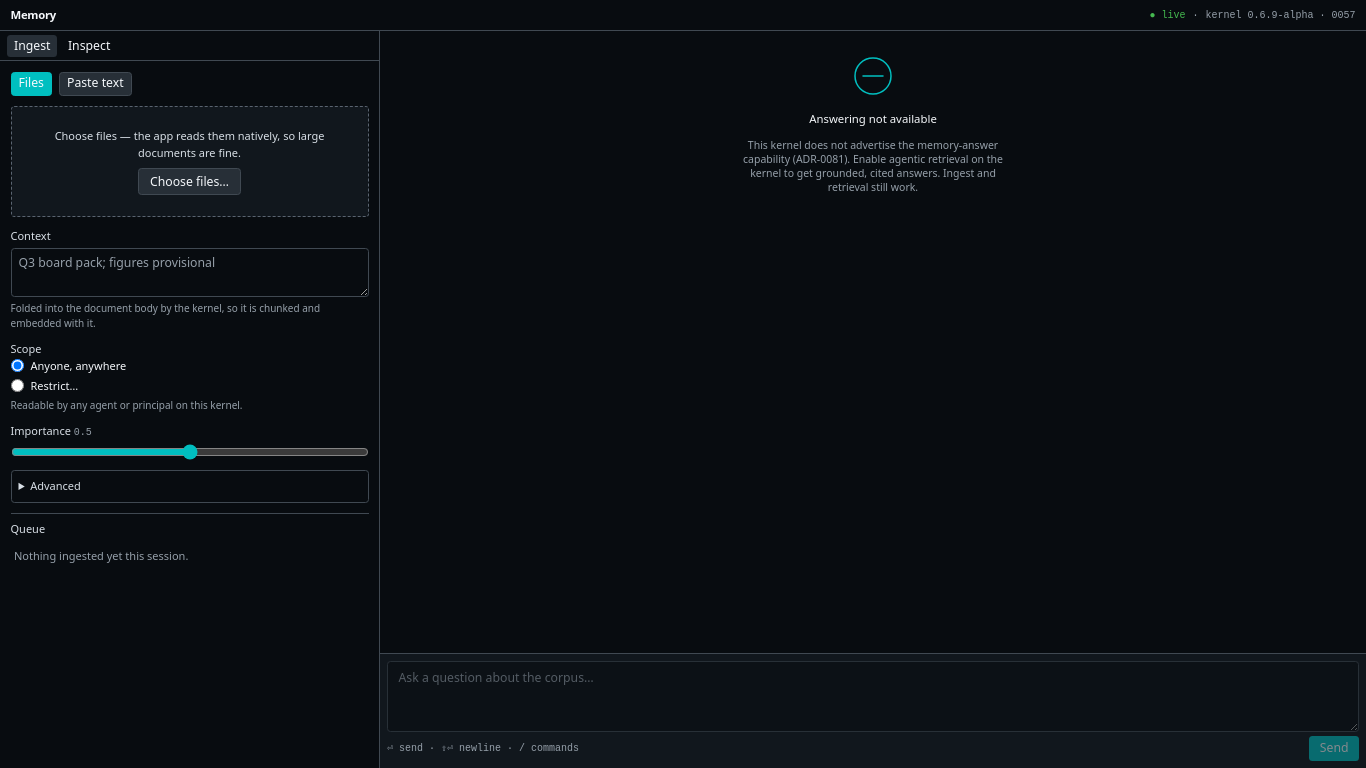
Scenario: MemoryPage — ingest › warns that a closed label makes the document unreachable until granted
What coordinates should you click on to do the following:
click the radio button labelled "Restrict…"
I would click on:
 (17, 386)
Its box is [10,379,24,392].
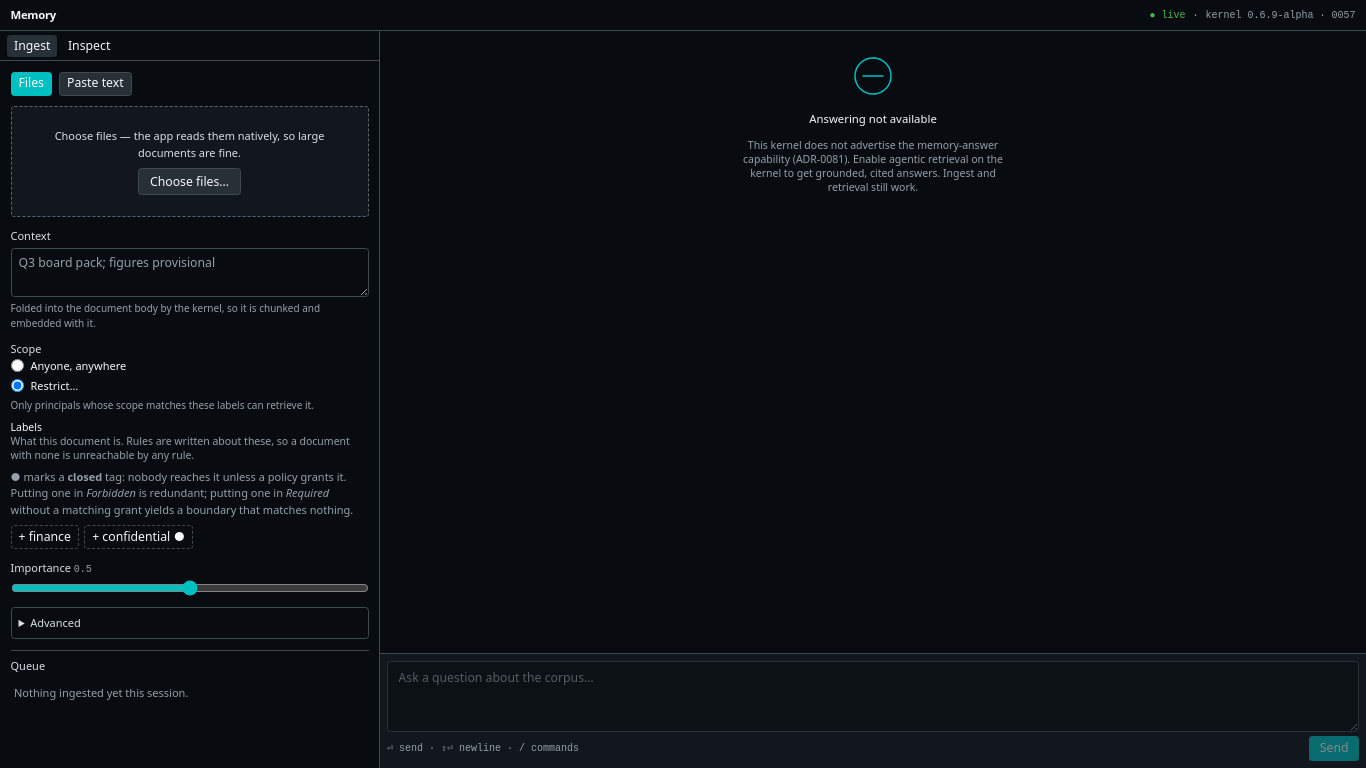
Now the button "+ confidential●" is shown
What coordinates should you click on to do the following:
click the button "+ confidential●"
I would click on:
 (138, 537)
Its box is [84,525,193,549].
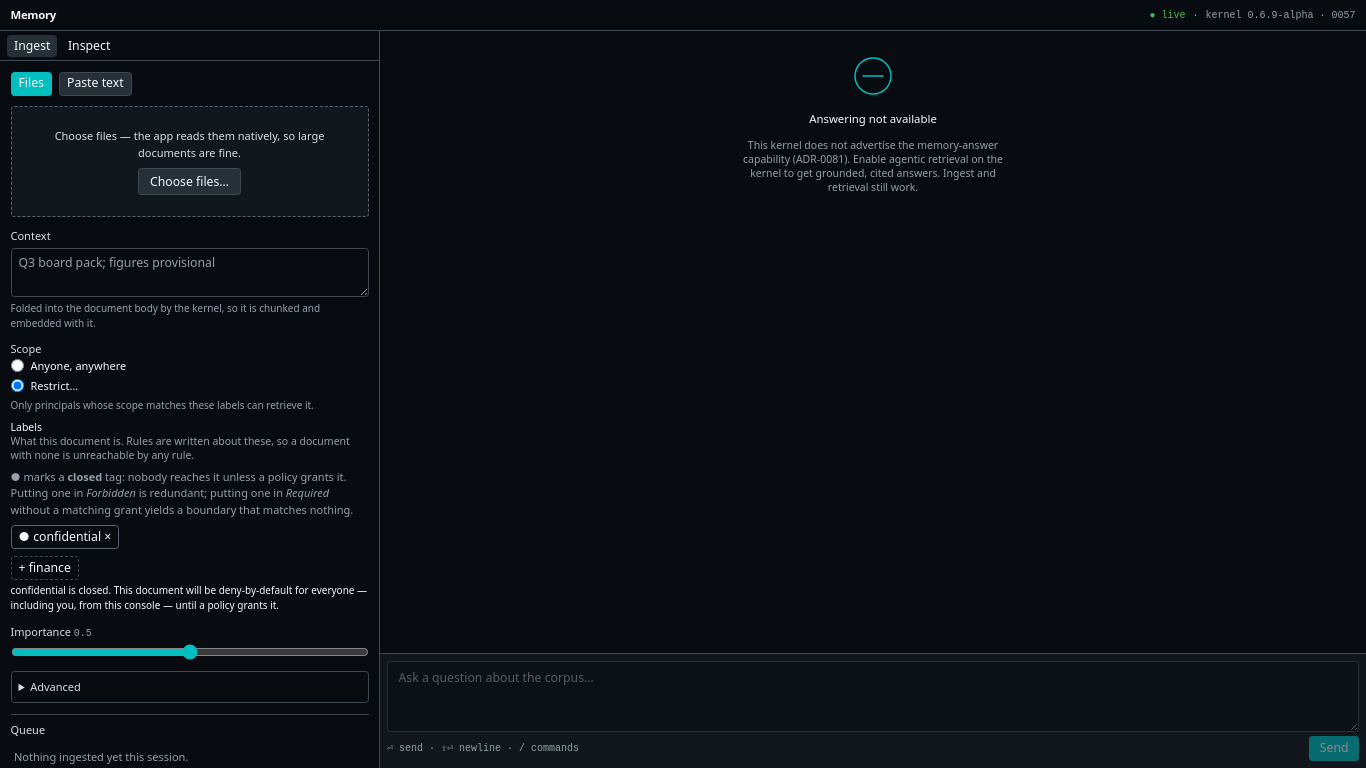
Now the text "deny-by-default for everyone" is shown, box [10,583,367,612]
